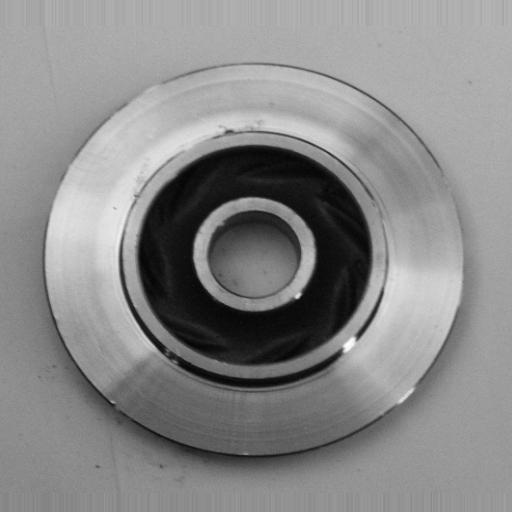crack: (210, 121, 261, 144)
scratch: (328, 322, 369, 370)
unpolished_casting: (39, 60, 466, 464)
